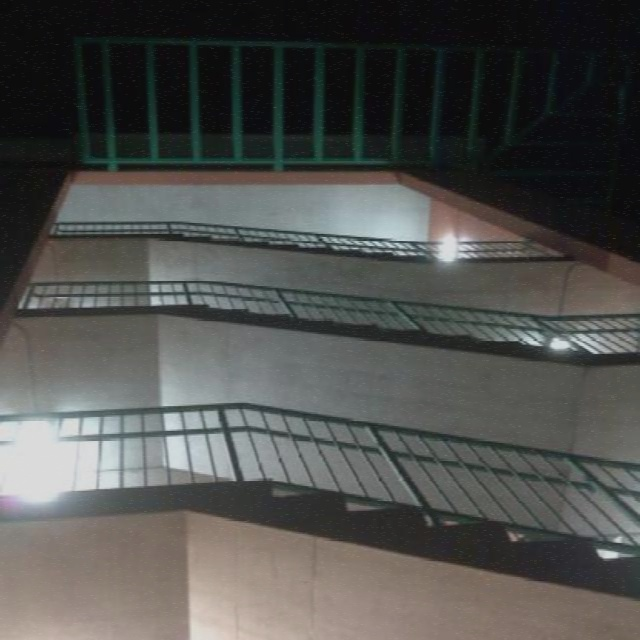stair: (183, 478, 639, 600), (158, 305, 588, 369), (148, 230, 440, 265)
